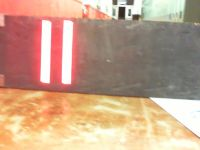switch: (40, 20, 51, 84), (62, 20, 72, 84)
